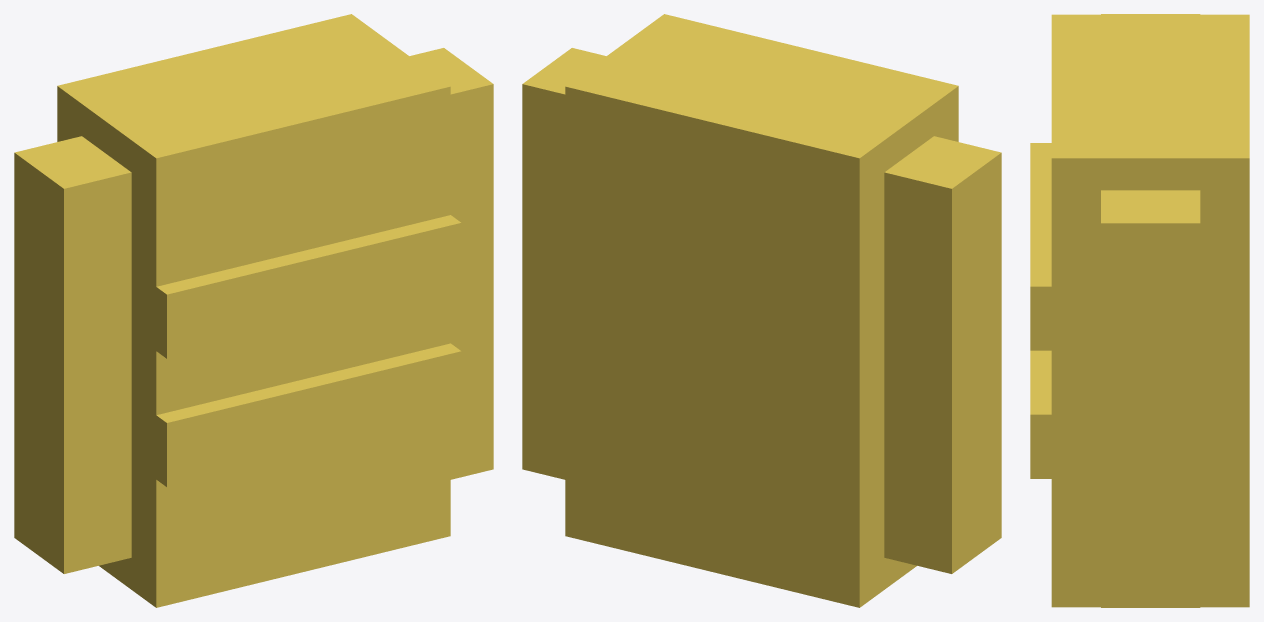
The model's file is hi_vis_vest.glb.
3 renders of one model, left to right at view 1: azimuth 30°, elevation 25°; view 2: azimuth 150°, elevation 25°; view 3: azimuth 270°, elevation 25°, orthographic.
Parts seen in each view (by area): view 1: garment, sleeve_l, stripe2, stripe1, sleeve_r; view 2: garment, sleeve_l, sleeve_r; view 3: garment, sleeve_r, stripe1, stripe2.
Part boxes in pixels (x1=…): garment: x1=57, y1=14, x2=450, y2=607; sleeve_l: x1=14, y1=136, x2=131, y2=573; stripe2: x1=152, y1=343, x2=461, y2=487; stripe1: x1=152, y1=215, x2=461, y2=358; sleeve_r: x1=409, y1=48, x2=493, y2=479; garment: x1=565, y1=14, x2=958, y2=607; sleeve_l: x1=884, y1=136, x2=1001, y2=573; sleeve_r: x1=522, y1=48, x2=606, y2=479; garment: x1=1051, y1=14, x2=1249, y2=607; sleeve_r: x1=1101, y1=190, x2=1200, y2=607; stripe1: x1=1030, y1=143, x2=1058, y2=350; stripe2: x1=1030, y1=350, x2=1058, y2=478.
Size of the model in its own units: 0.7001 by 0.7002 by 0.3099.
